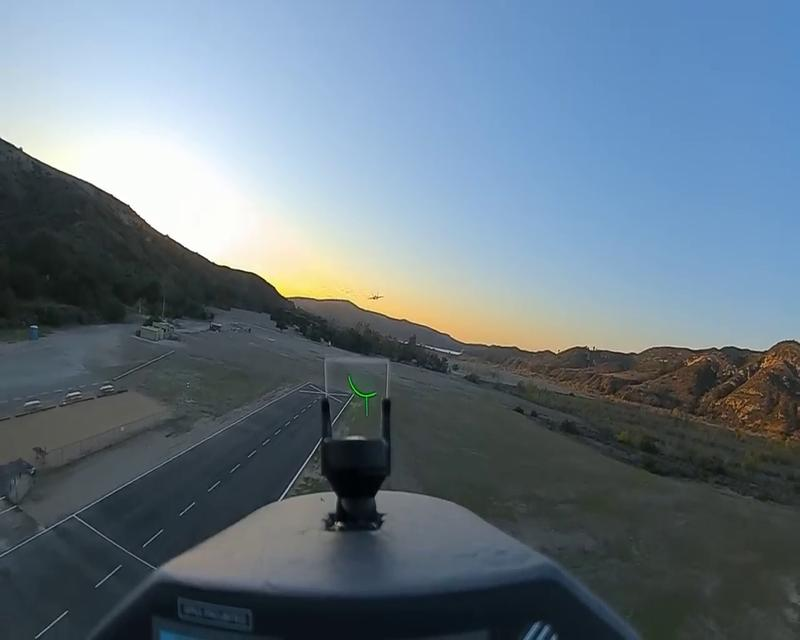UAV: (367, 292, 384, 300)
